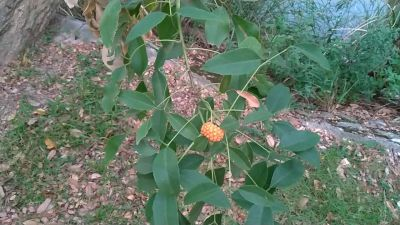eggs: (199, 119, 225, 145)
